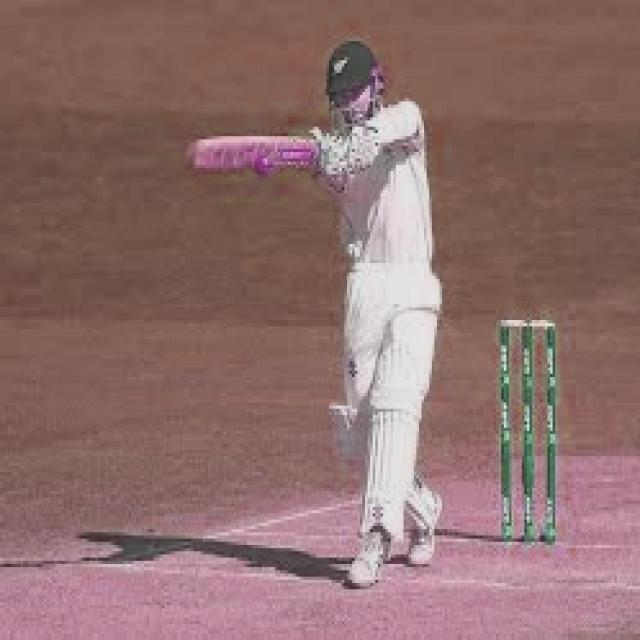toe: (167, 128, 214, 180)
